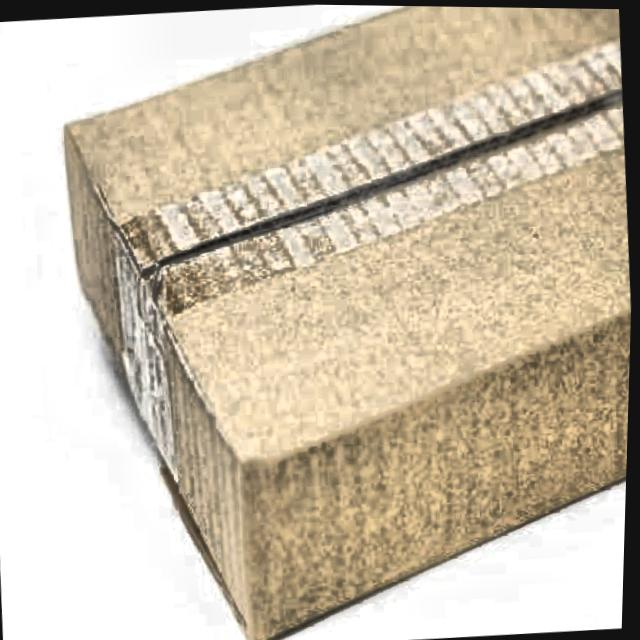Cardbox: (20, 0, 640, 640)
